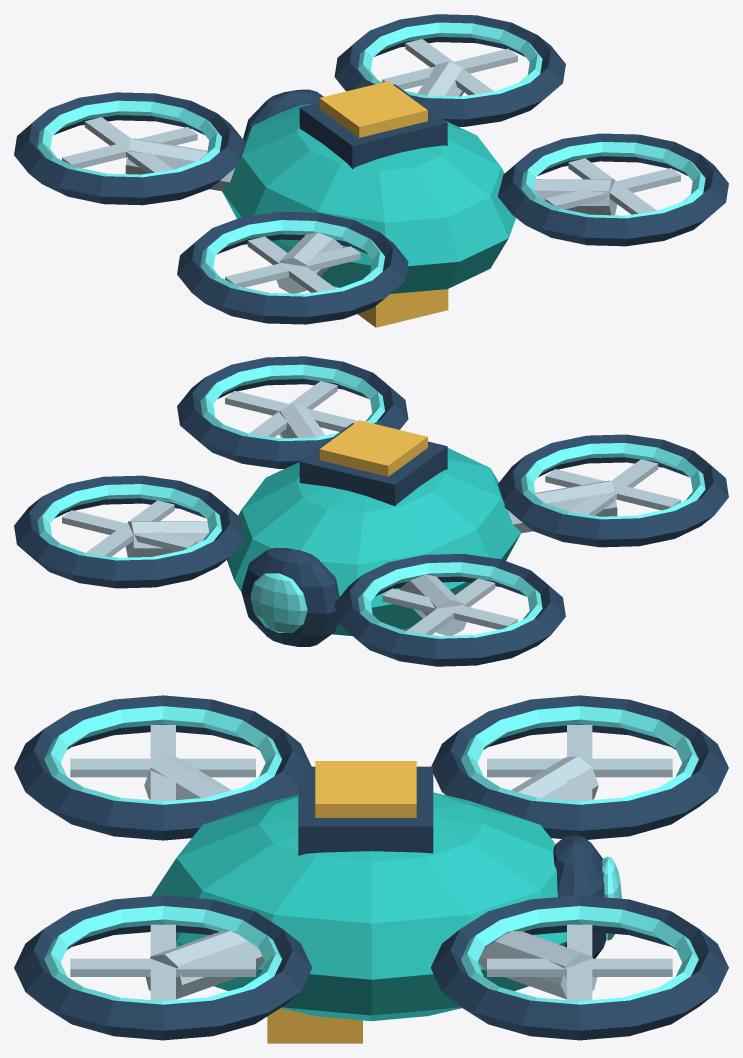
The model's file is enemy_mini_drone.gltf.
The picture shows the model from 3 angles, top to bottom: view 1: azimuth 30°, elevation 25°; view 2: azimuth 150°, elevation 25°; view 3: azimuth 270°, elevation 25°; orthographic projection. The views are drawn at different scales.
Size of the model in its own units: 1.37 by 0.4675 by 1.27.
